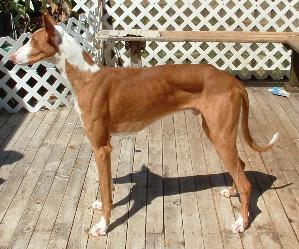Ibizan_hound: (9, 12, 278, 236)
